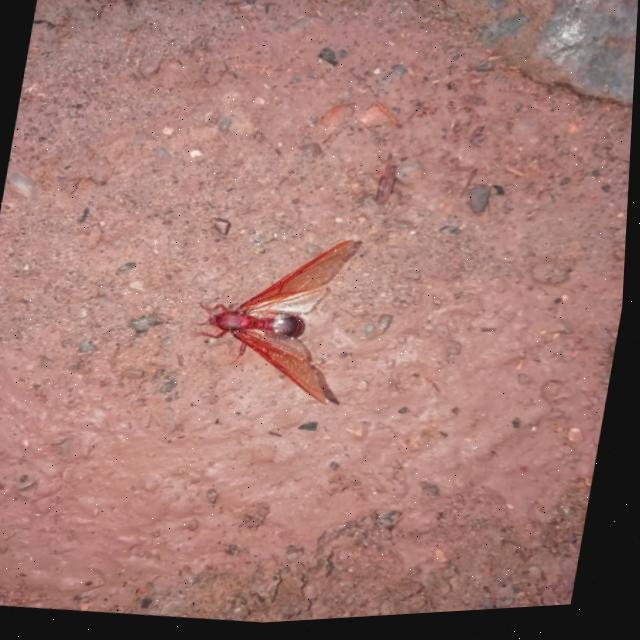Alive-Male-Alate: (186, 226, 361, 416)
